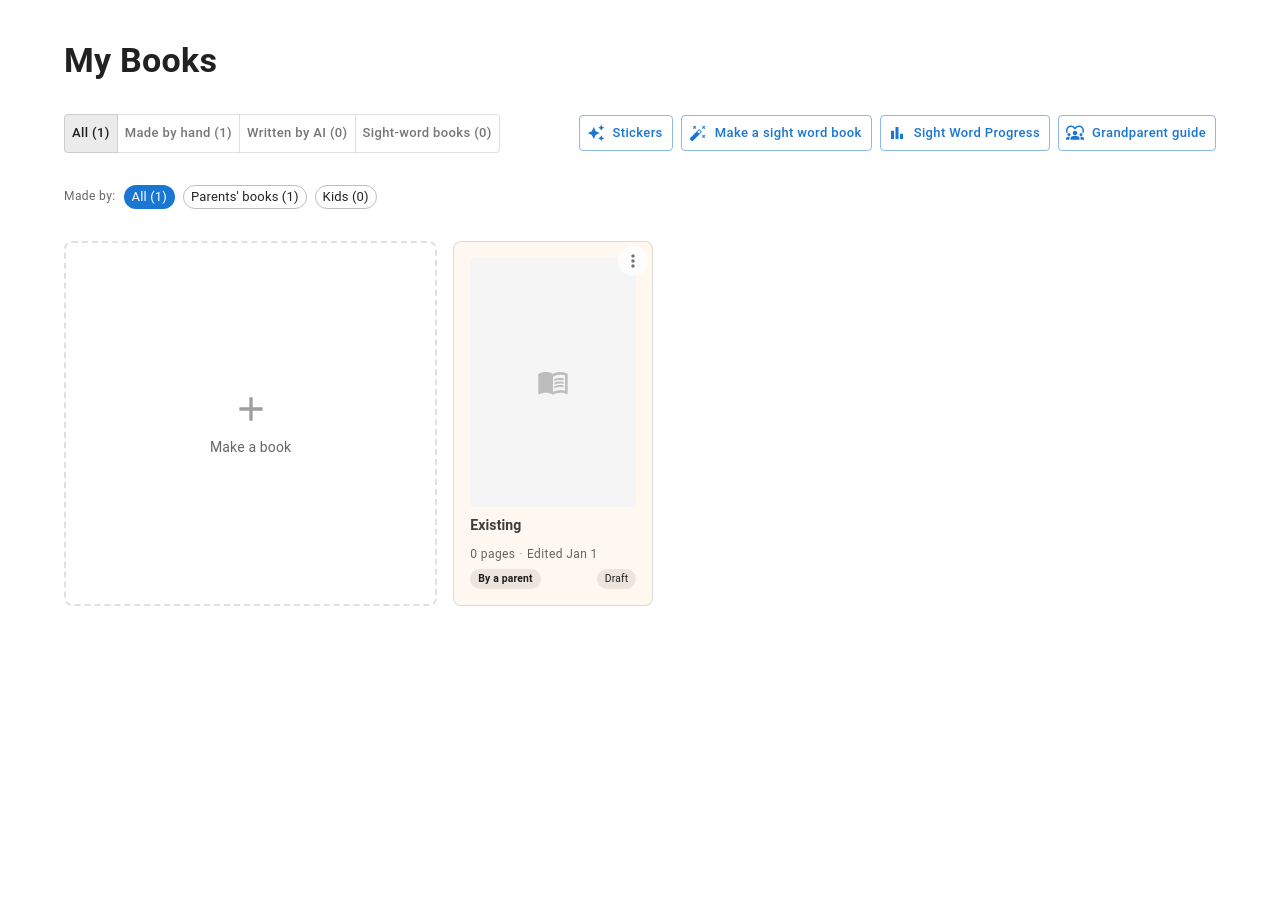
Test: each choice lands where it says › "Write it myself" opens the blank-book form, not a generator
Click the element with test id "new-book-tile" at (251, 423), box [64, 241, 437, 606]
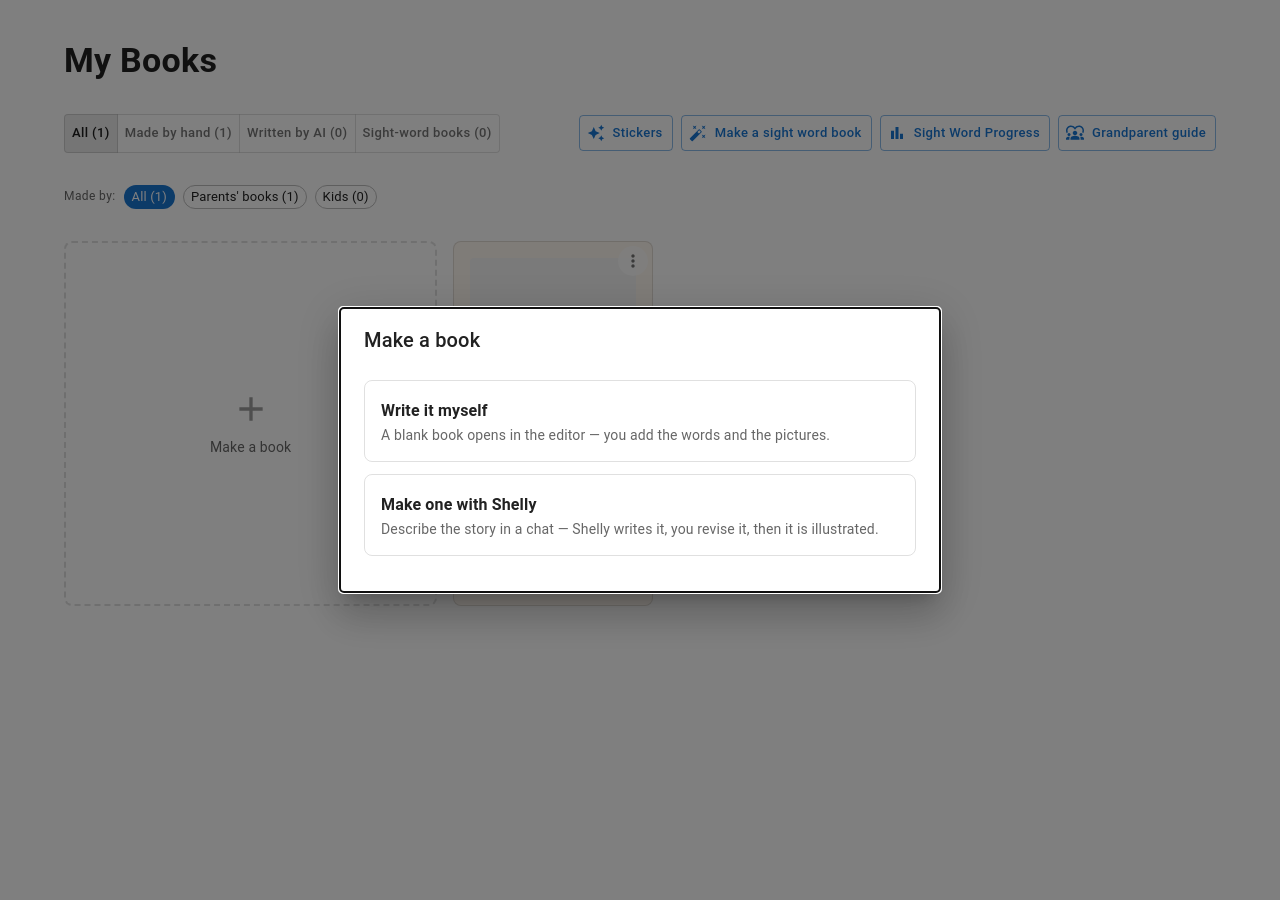
Click the button with test id "make-book-choice-myself" at (434, 410), box [364, 380, 916, 462]
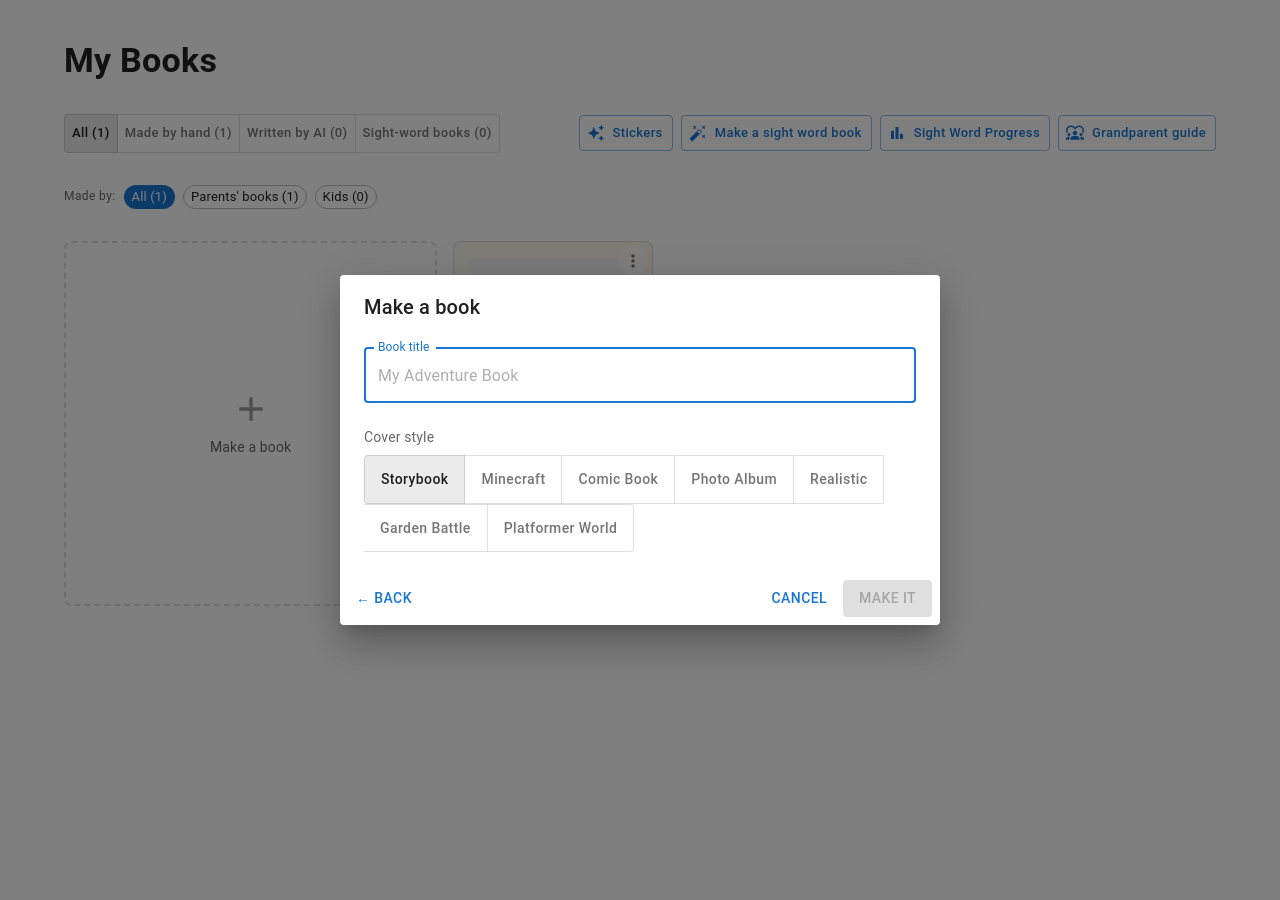
Result: the field labelled "Book title" is shown at [364, 347, 916, 403]
